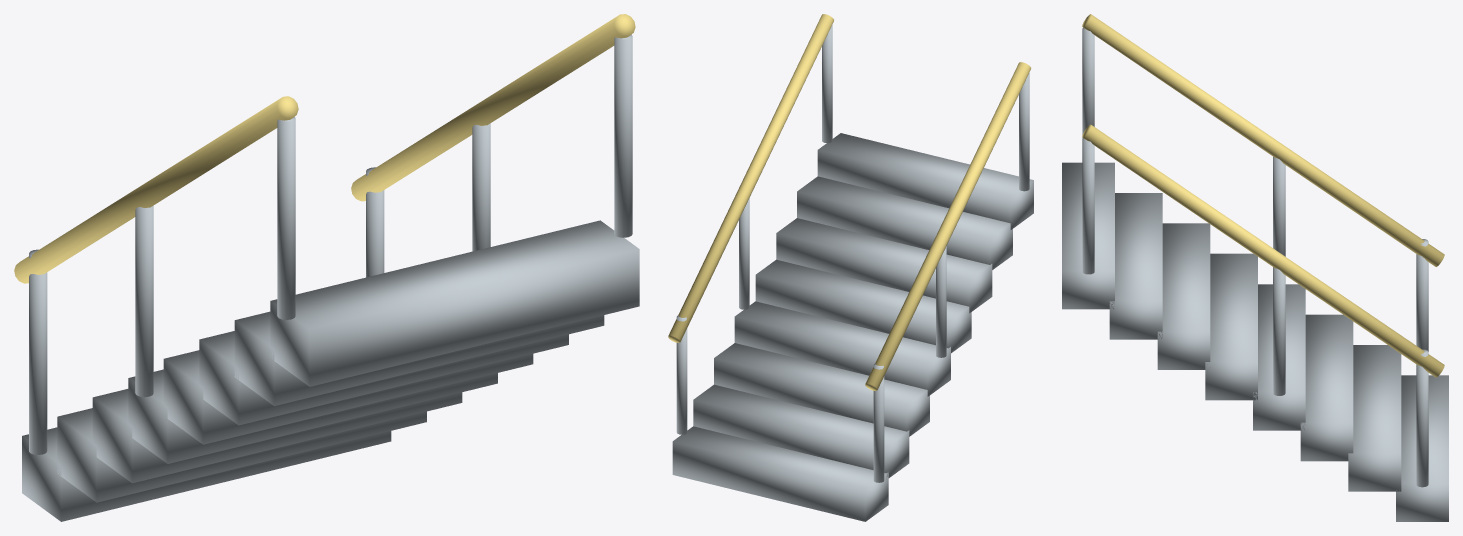
Rendered from stairs_standard.glb.
3 views of the same model, side by side, from view 1: azimuth 30°, elevation 25°; view 2: azimuth 150°, elevation 25°; view 3: azimuth 270°, elevation 25° (orthographic). The views are drawn at different scales.
Parts seen in each view (by area): view 1: Steps_steel, Railing_steel, Railing_yellow; view 2: Steps_steel, Railing_yellow, Railing_steel; view 3: Steps_steel, Railing_yellow, Railing_steel.
Boxes of the visible parts, x1=… form: Steps_steel: x1=22, y1=220, x2=639, y2=521; Railing_steel: x1=29, y1=34, x2=632, y2=454; Railing_yellow: x1=14, y1=14, x2=635, y2=283; Steps_steel: x1=672, y1=133, x2=1033, y2=521; Railing_yellow: x1=668, y1=14, x2=1031, y2=390; Railing_steel: x1=676, y1=25, x2=1029, y2=482; Steps_steel: x1=1062, y1=162, x2=1448, y2=521; Railing_yellow: x1=1082, y1=14, x2=1444, y2=377; Railing_steel: x1=1082, y1=27, x2=1428, y2=487.
Bounding box in the file's own units: 1.57 × 2.49 × 2.19.
